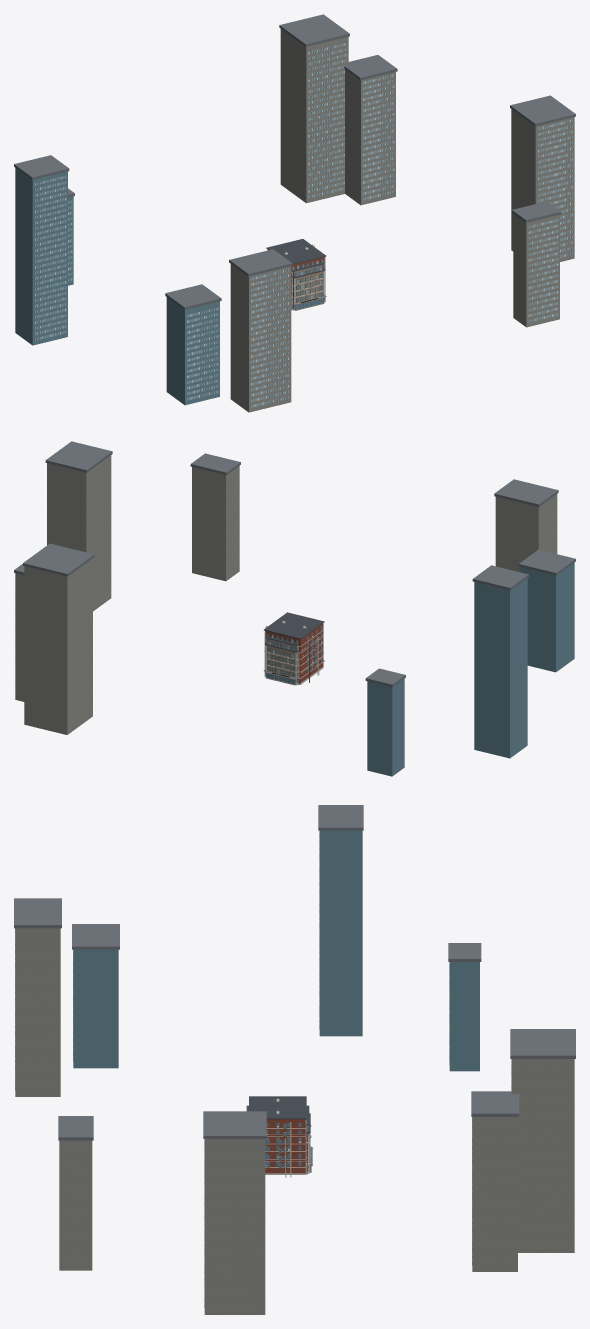
Rendered from urban-showcase.glb.
The picture shows the model from 3 angles, top to bottom: view 1: azimuth 30°, elevation 25°; view 2: azimuth 150°, elevation 25°; view 3: azimuth 270°, elevation 25°; orthographic projection. The views are drawn at different scales.
Parts seen in each view (by area): view 1: distant_skyline_visual__concrete, distant_skyline_visual__glass_tint, distant_skyline_visual__glass_bright, distant_skyline_visual__steel, distant_skyline_visual__worn_white, facade-5-roof, facade-4-sandstone; view 2: distant_skyline_visual__concrete, distant_skyline_visual__glass_tint, distant_skyline_visual__steel, facade-5-brick, facade-5-roof, facade-4-sandstone; view 3: distant_skyline_visual__concrete, distant_skyline_visual__glass_tint, distant_skyline_visual__steel, facade-5-brick, facade-5-roof, distant_skyline_visual__glass_bright.
Part boxes in pixels (x1=…): distant_skyline_visual__concrete: x1=230, y1=29, x2=574, y2=412; distant_skyline_visual__glass_tint: x1=15, y1=168, x2=219, y2=405; distant_skyline_visual__glass_bright: x1=34, y1=43, x2=572, y2=407; distant_skyline_visual__steel: x1=14, y1=14, x2=575, y2=309; distant_skyline_visual__worn_white: x1=34, y1=43, x2=572, y2=406; facade-5-roof: x1=266, y1=239, x2=326, y2=264; facade-4-sandstone: x1=294, y1=271, x2=323, y2=303; distant_skyline_visual__concrete: x1=15, y1=455, x2=557, y2=734; distant_skyline_visual__glass_tint: x1=367, y1=562, x2=574, y2=776; distant_skyline_visual__steel: x1=14, y1=441, x2=575, y2=687; facade-5-brick: x1=265, y1=623, x2=323, y2=683; facade-5-roof: x1=264, y1=612, x2=324, y2=639; facade-4-sandstone: x1=266, y1=645, x2=297, y2=678; distant_skyline_visual__concrete: x1=15, y1=928, x2=574, y2=1314; distant_skyline_visual__glass_tint: x1=73, y1=830, x2=479, y2=1071; distant_skyline_visual__steel: x1=14, y1=805, x2=575, y2=1140; facade-5-brick: x1=265, y1=1119, x2=305, y2=1173; facade-5-roof: x1=249, y1=1096, x2=306, y2=1119; distant_skyline_visual__glass_bright: x1=15, y1=831, x2=511, y2=1307.
Bounding box in the file's own units: 282 × 91.4 × 222.
33 materials, 14 textured.
